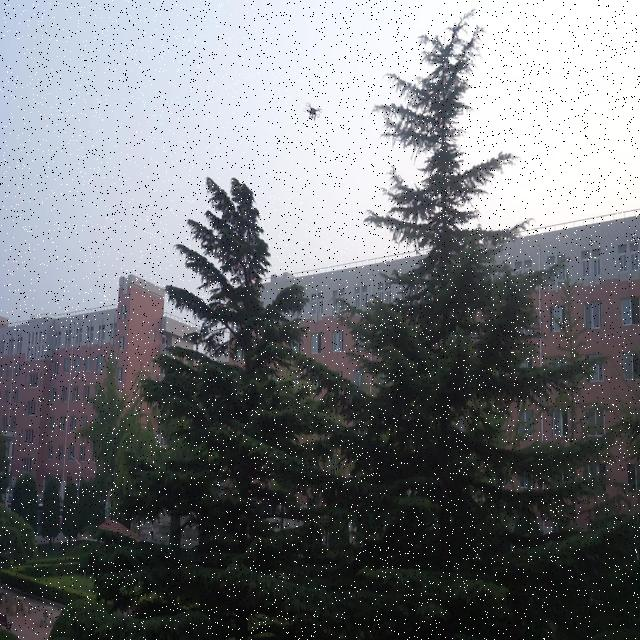UAV: (304, 102, 322, 121)
